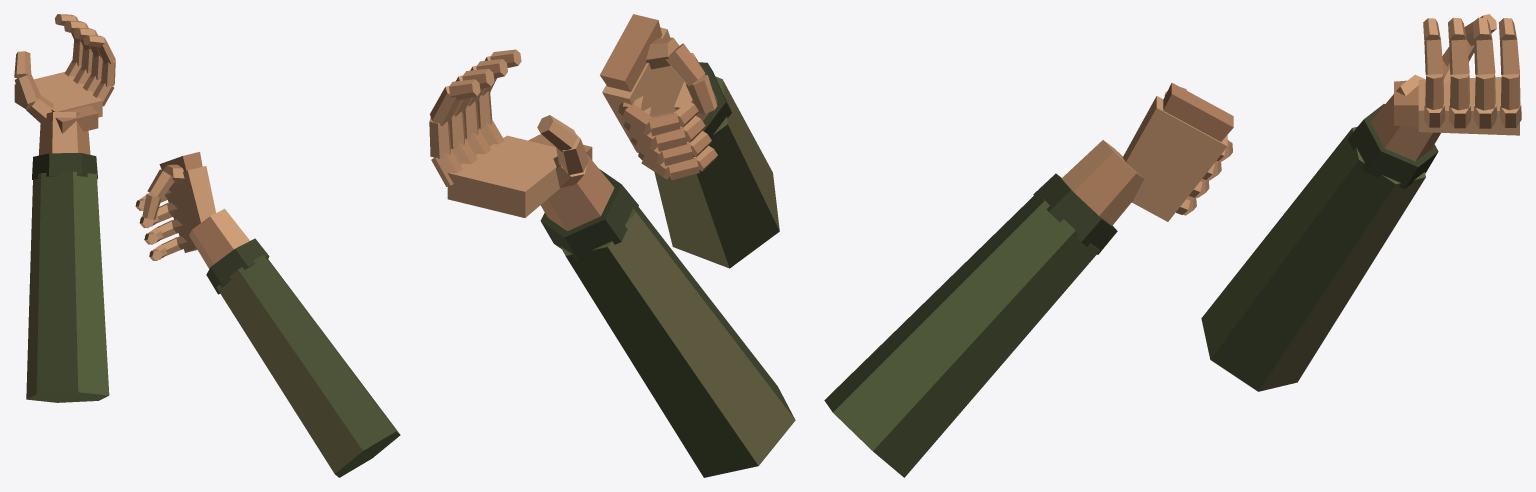
Rendered from maos_wf_m4.glb.
3 views of the same model, side by side, from view 1: azimuth 30°, elevation 25°; view 2: azimuth 150°, elevation 25°; view 3: azimuth 270°, elevation 25° (orthographic). The views are drawn at different scales.
Parts seen in each view (by area): view 1: MaoE, MaoD; view 2: MaoE, MaoD; view 3: MaoD, MaoE.
Boxes of the visible parts, <box> form: MaoE: <box>14,14,115,402</box>; MaoD: <box>135,152,400,477</box>; MaoE: <box>429,49,795,477</box>; MaoD: <box>600,14,779,268</box>; MaoD: <box>824,83,1233,477</box>; MaoE: <box>1201,14,1521,391</box>.
Bounding box in the file's own units: 0.3394 × 0.4462 × 0.6749.
